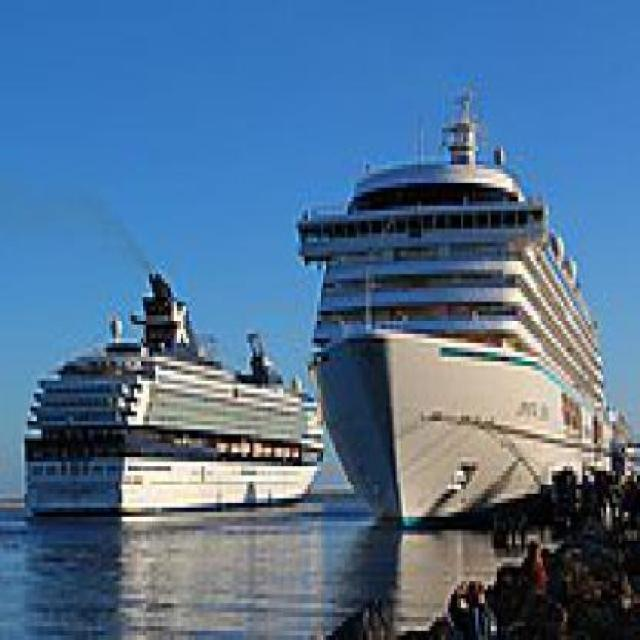cruise: (287, 70, 620, 541), (14, 261, 331, 527)
